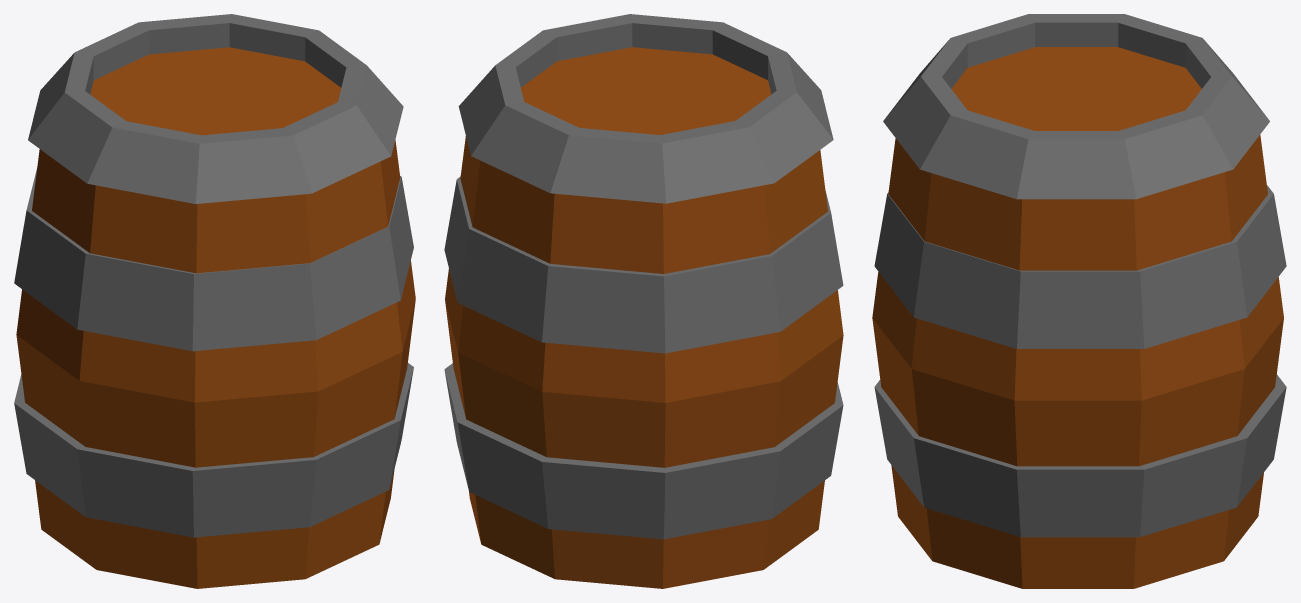
Rendered from Tonneaux.fbx.
3 renders of one model, left to right at view 1: azimuth 30°, elevation 25°; view 2: azimuth 150°, elevation 25°; view 3: azimuth 270°, elevation 25°, orthographic.
Parts seen in each view (by area): view 1: Cylinder.023, Cylinder.003, Cylinder.017, Cylinder.004, Cylinder.002, Cylinder, Cylinder.005, Cylinder.018, Cylinder.022, Cylinder.020, Cylinder.016, Cylinder.021 (+6 smaller); view 2: Cylinder.023, Cylinder.017, Cylinder.007, Cylinder.006, Cylinder.008, Cylinder, Cylinder.005, Cylinder.014, Cylinder.015, Cylinder.013, Cylinder.016, Cylinder.012 (+6 smaller); view 3: Cylinder.023, Cylinder.010, Cylinder.017, Cylinder.011, Cylinder.009, Cylinder, Cylinder.002, Cylinder.008, Cylinder.001, Cylinder.012, Cylinder.021, Cylinder.020 (+6 smaller).
Part boxes in pixels (x1,y1,x2,y2): Cylinder.023: [14, 168, 413, 351]; Cylinder.003: [194, 194, 318, 588]; Cylinder.017: [14, 363, 413, 537]; Cylinder.004: [79, 185, 197, 588]; Cylinder.002: [305, 161, 402, 578]; Cylinder: [90, 47, 341, 135]; Cylinder.005: [16, 149, 96, 569]; Cylinder.018: [195, 128, 311, 203]; Cylinder.022: [87, 121, 201, 203]; Cylinder.020: [283, 102, 390, 193]; Cylinder.016: [28, 91, 125, 183]; Cylinder.021: [338, 65, 403, 155]; Cylinder.023: [444, 176, 843, 353]; Cylinder.017: [444, 363, 843, 539]; Cylinder.007: [542, 193, 665, 588]; Cylinder.006: [663, 185, 780, 588]; Cylinder.008: [458, 160, 554, 578]; Cylinder: [521, 47, 771, 134]; Cylinder.005: [763, 150, 843, 569]; Cylinder.014: [550, 128, 665, 203]; Cylinder.015: [660, 121, 773, 203]; Cylinder.013: [471, 102, 578, 192]; Cylinder.016: [736, 91, 833, 182]; Cylinder.012: [458, 65, 524, 155]; Cylinder.023: [874, 185, 1286, 348]; Cylinder.010: [1014, 199, 1141, 588]; Cylinder.017: [874, 374, 1286, 537]; Cylinder.011: [911, 173, 1022, 588]; Cylinder.009: [1134, 172, 1244, 588]; Cylinder: [951, 47, 1201, 130]; Cylinder.002: [872, 138, 932, 560]; Cylinder.008: [1224, 135, 1283, 560]; Cylinder.001: [1017, 131, 1136, 199]; Cylinder.012: [1118, 110, 1232, 199]; Cylinder.021: [920, 110, 1034, 198]; Cylinder.020: [883, 76, 967, 168].
Bounding box in the file's own units: 230 × 271 × 218.
